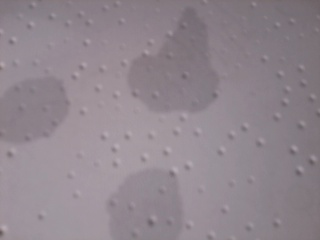Water_detected: (133, 22, 218, 102), (127, 172, 188, 240), (14, 77, 67, 140)
